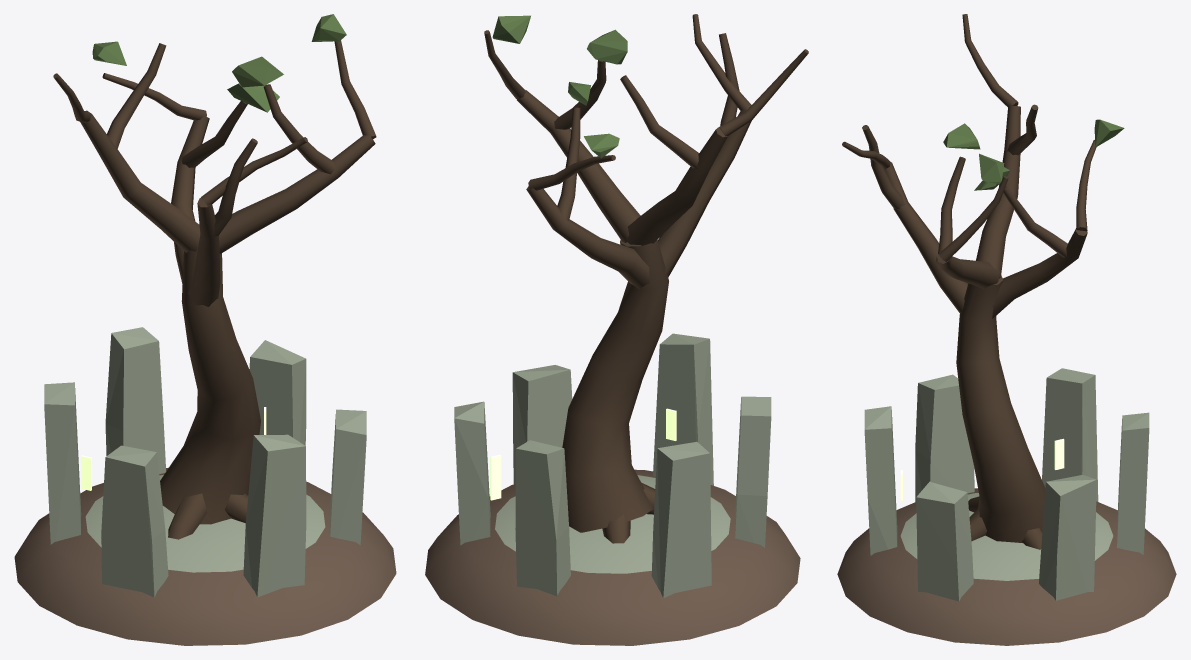
File: tower_grove_1.glb
3 renders of one model, left to right at view 1: azimuth 30°, elevation 25°; view 2: azimuth 150°, elevation 25°; view 3: azimuth 270°, elevation 25°, orthographic. The views are drawn at different scales.
Parts seen in each view (by area): view 1: tower; view 2: tower; view 3: tower.
Boxes of the visible parts, bbox=[...] form: tower: bbox=[14, 14, 396, 645]; tower: bbox=[425, 14, 808, 645]; tower: bbox=[837, 14, 1176, 645].
Bounding box in the file's own units: 2.05 × 3.16 × 2.
